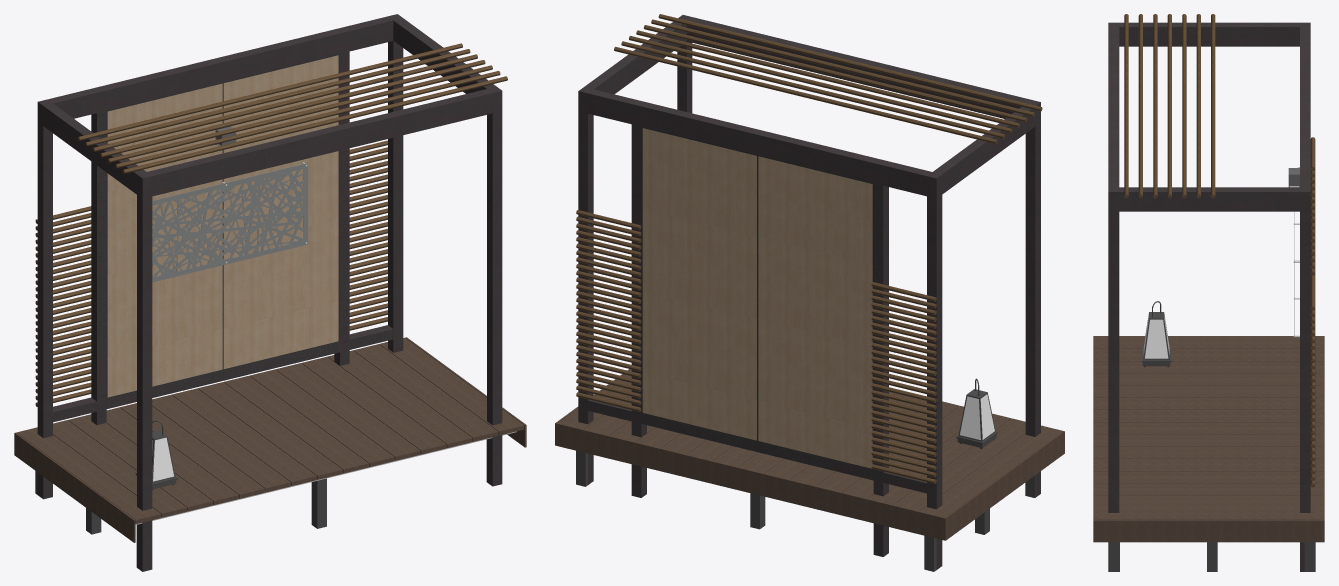
The model's file is fp12_kareiro.fbx.
The picture shows the model from 3 angles, left to right: view 1: azimuth 30°, elevation 25°; view 2: azimuth 150°, elevation 25°; view 3: azimuth 270°, elevation 25°; orthographic projection. The views are drawn at different scales.
Visible parts, largest first — view 1: fp12_kareiroファニチャーなし.001; view 2: fp12_kareiroファニチャーなし.001; view 3: fp12_kareiroファニチャーなし.001.
Boxes of the visible parts, <box> form: fp12_kareiroファニチャーなし.001: <box>14,14,526,571</box>; fp12_kareiroファニチャーなし.001: <box>555,14,1064,571</box>; fp12_kareiroファニチャーなし.001: <box>1093,14,1324,571</box>.
Bounding box in the file's own units: 303 × 293 × 160.
13 materials, 6 textured.
